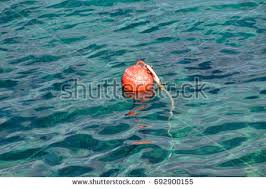buoy: (122, 66, 154, 96)
